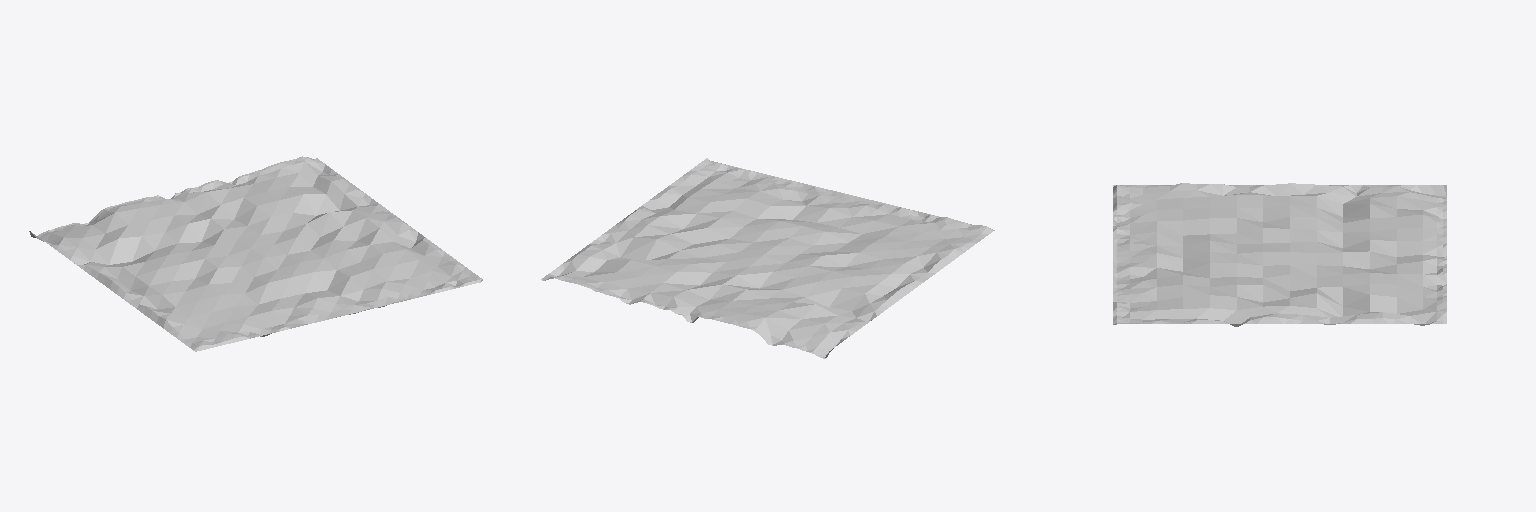
Rendered from floor3D.obj.
The picture shows the model from 3 angles: view 1: azimuth 30°, elevation 25°; view 2: azimuth 150°, elevation 25°; view 3: azimuth 270°, elevation 25°; orthographic projection.
Parts seen in each view (by area): view 1: Rockwall; view 2: Rockwall; view 3: Rockwall.
Part boxes in pixels (bbox=[...]): Rockwall: bbox=[29, 156, 482, 351]; Rockwall: bbox=[541, 158, 994, 358]; Rockwall: bbox=[1113, 183, 1446, 326].
Size of the model in its own units: 600 by 31.51 by 600.